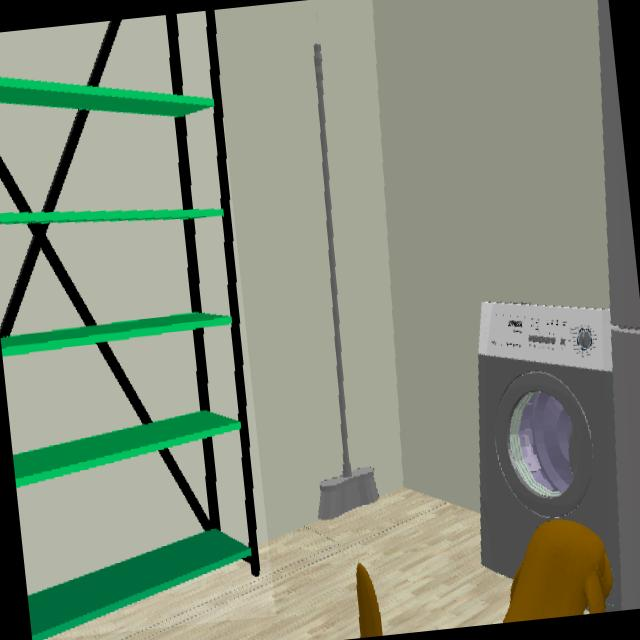shelf: (0, 10, 258, 640)
